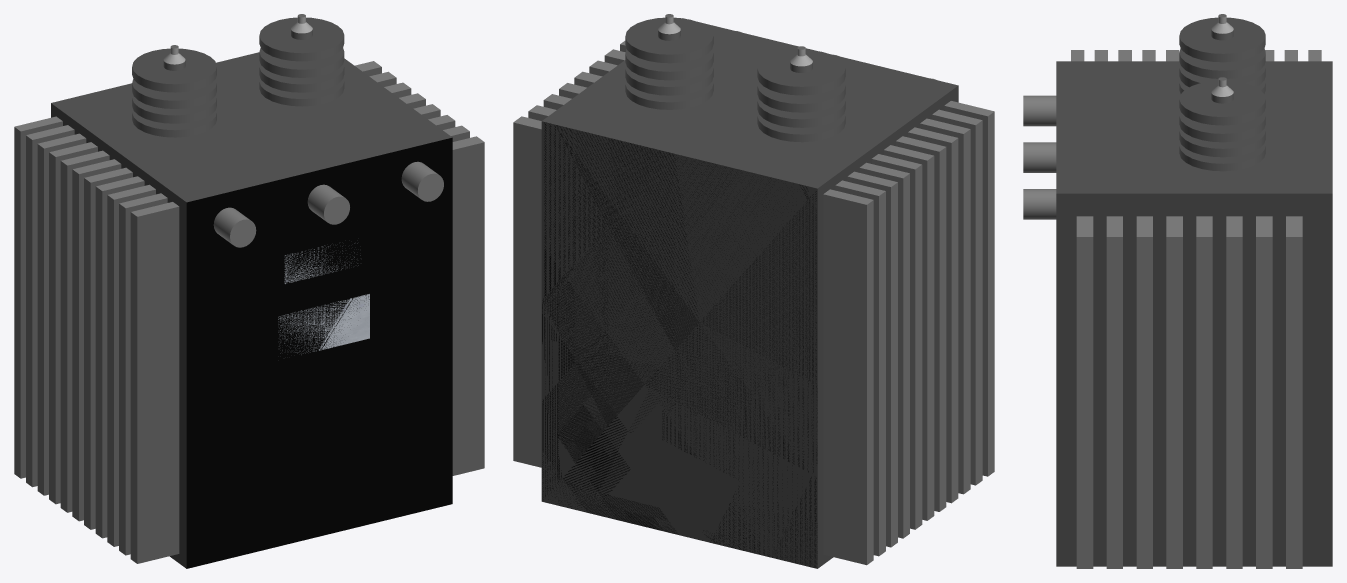
File: Substation_Power_2500_KVA_Transformer.dae
3 views of the same model, side by side, from view 1: azimuth 30°, elevation 25°; view 2: azimuth 150°, elevation 25°; view 3: azimuth 270°, elevation 25° (orthographic). The views are drawn at different scales.
Visible parts, largest first — view 1: Model, Group1, Group2; view 2: Model, Group1, Group2; view 3: Model, Group1, Group2.
Part boxes in pixels (x1,y1,x2,y2): Model: [14, 52, 484, 568]; Group1: [259, 14, 344, 106]; Group2: [132, 45, 216, 137]; Model: [513, 18, 994, 568]; Group1: [625, 14, 713, 109]; Group2: [757, 46, 845, 142]; Model: [1023, 50, 1332, 568]; Group1: [1179, 77, 1265, 171]; Group2: [1179, 14, 1265, 93].
Size of the model in its own units: 99.75 by 75 by 121.
